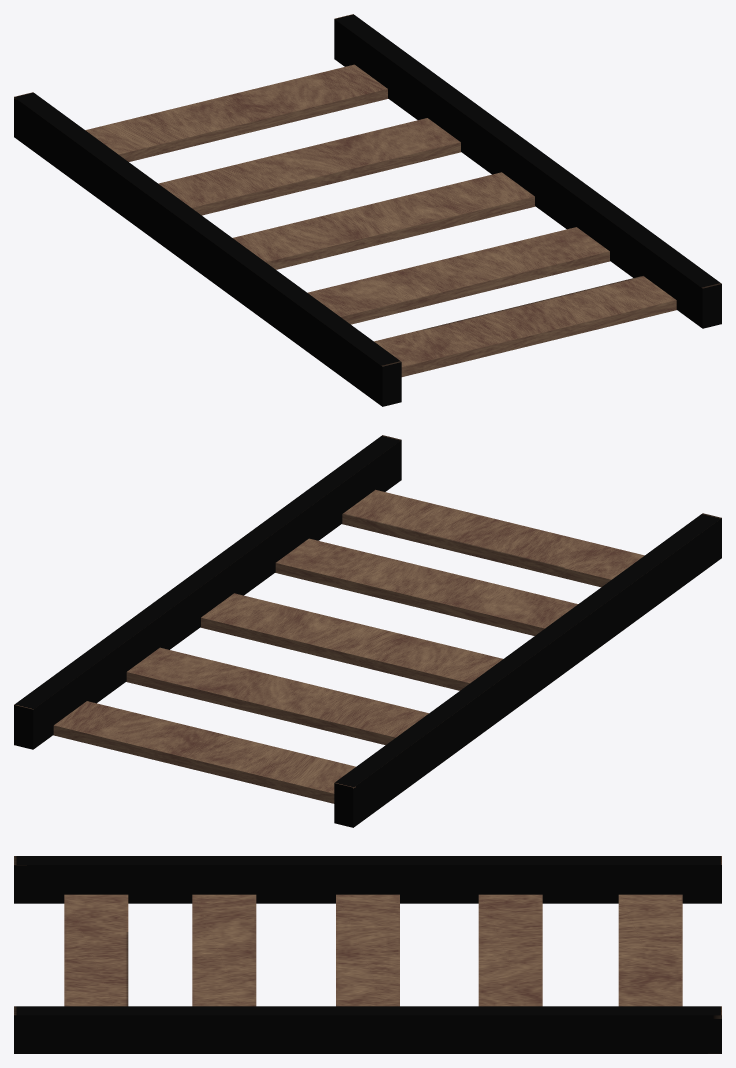
File: rails.fbx
3 views of the same model, one above another, from view 1: azimuth 30°, elevation 25°; view 2: azimuth 150°, elevation 25°; view 3: azimuth 270°, elevation 25° (orthographic). The views are drawn at different scales.
Visible parts, largest first — view 1: Bake; view 2: Bake; view 3: Bake.
Part boxes in pixels (x1=…): Bake: x1=14, y1=14, x2=721, y2=406; Bake: x1=14, y1=435, x2=721, y2=827; Bake: x1=14, y1=856, x2=721, y2=1053.
Bounding box in the file's own units: 212 × 24.35 × 398.
